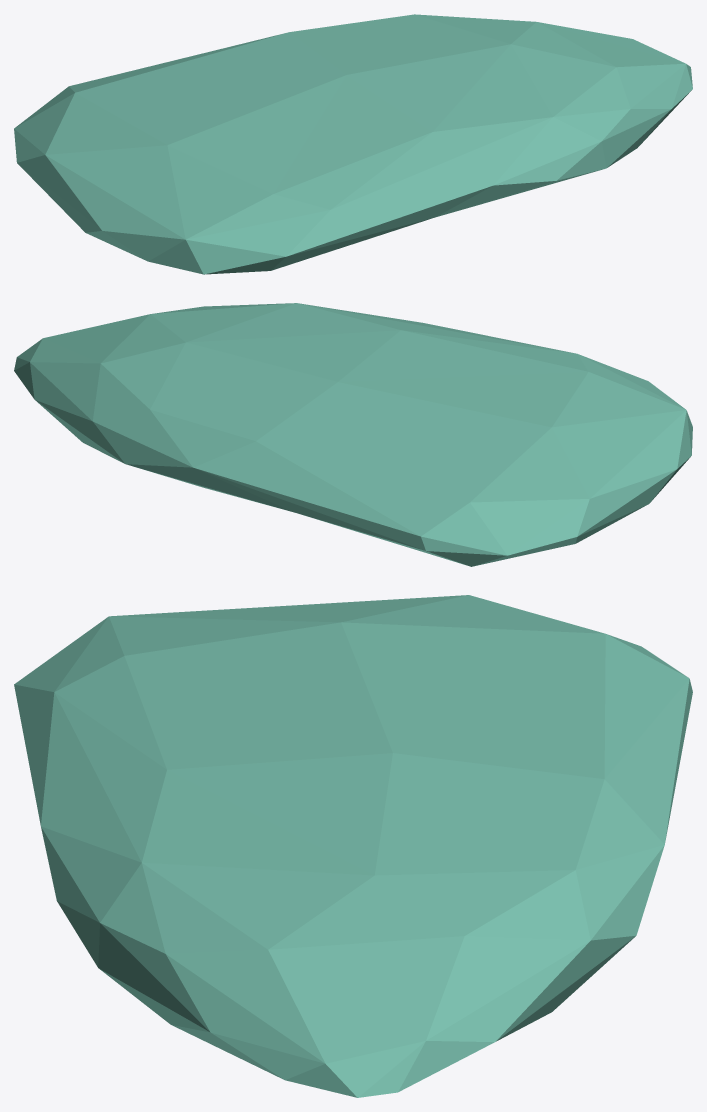
File: dragon scale.glb
3 renders of one model, top to bottom at view 1: azimuth 30°, elevation 25°; view 2: azimuth 150°, elevation 25°; view 3: azimuth 270°, elevation 25°, orthographic. The views are drawn at different scales.
Parts seen in each view (by area): view 1: Cube; view 2: Cube; view 3: Cube.
Part boxes in pixels (bbox=[...]): Cube: bbox=[14, 14, 692, 274]; Cube: bbox=[14, 303, 692, 566]; Cube: bbox=[14, 595, 692, 1097].
Bounding box in the file's own units: 0.1608 × 0.0189 × 0.0997.
